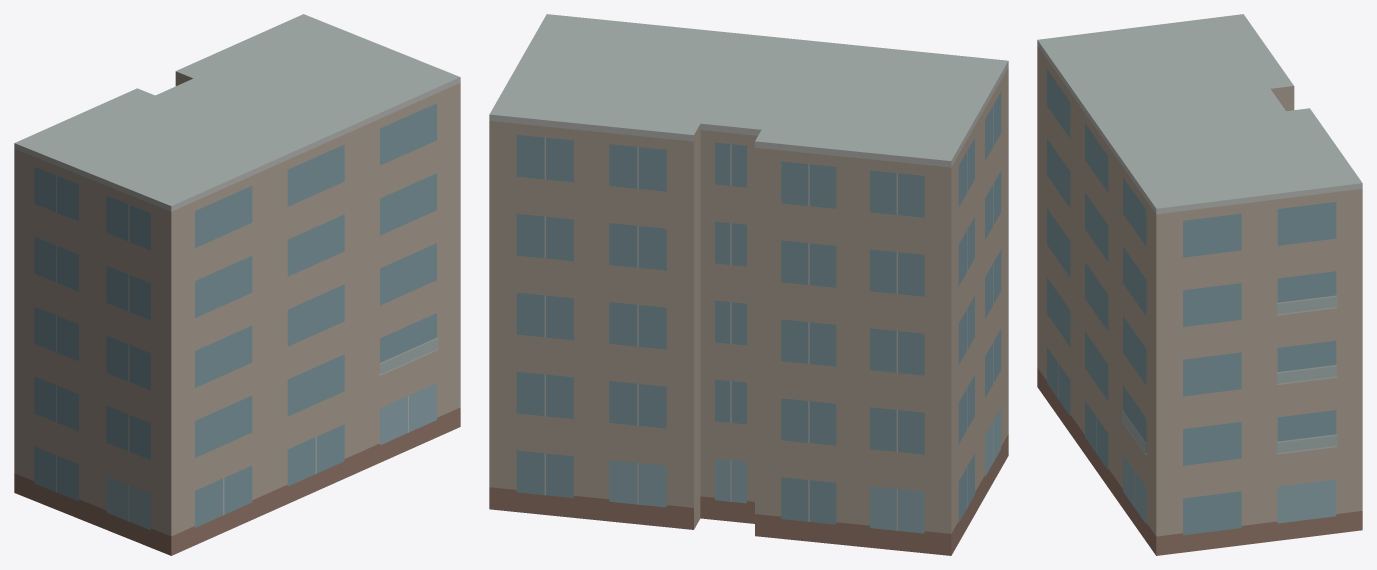
Rendered from survey-upis-32620547.glb.
3 renders of one model, left to right at view 1: azimuth 30°, elevation 25°; view 2: azimuth 150°, elevation 25°; view 3: azimuth 270°, elevation 25°, orthographic. The views are drawn at different scales.
Visible parts, largest first — view 1: survey-upis-32620547.tmp; view 2: survey-upis-32620547.tmp; view 3: survey-upis-32620547.tmp.
Part boxes in pixels (x1,y1,x2,y2): survey-upis-32620547.tmp: (14,14,460,555); survey-upis-32620547.tmp: (489,14,1008,555); survey-upis-32620547.tmp: (1037,14,1362,555).
Size of the model in its own units: 18.37 by 15.25 by 12.96.
